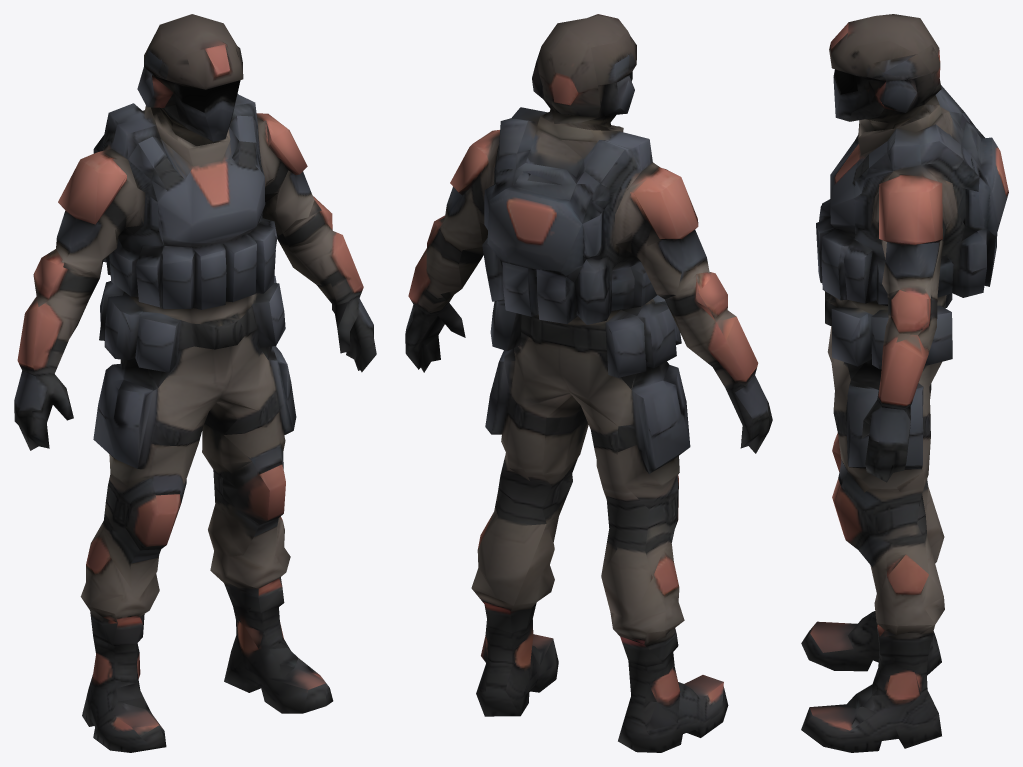
The model's file is red-soldier-lod2.fbx.
3 renders of one model, left to right at view 1: azimuth 30°, elevation 25°; view 2: azimuth 150°, elevation 25°; view 3: azimuth 270°, elevation 25°, orthographic.
Parts seen in each view (by area): view 1: RedSoldier_LOD2; view 2: RedSoldier_LOD2; view 3: RedSoldier_LOD2.
Part boxes in pixels (box(x1,y1,x2,y2)): RedSoldier_LOD2: box(14, 14, 376, 752); RedSoldier_LOD2: box(405, 14, 772, 752); RedSoldier_LOD2: box(801, 14, 1008, 752).
Bounding box in the file's own units: 96.79 × 180 × 49.66.
1 material, 1 textured.
